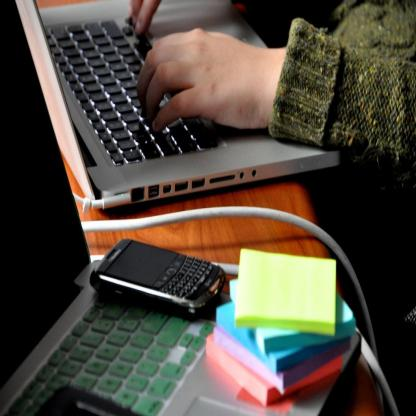board: (0, 0, 361, 416), (15, 0, 340, 204)
